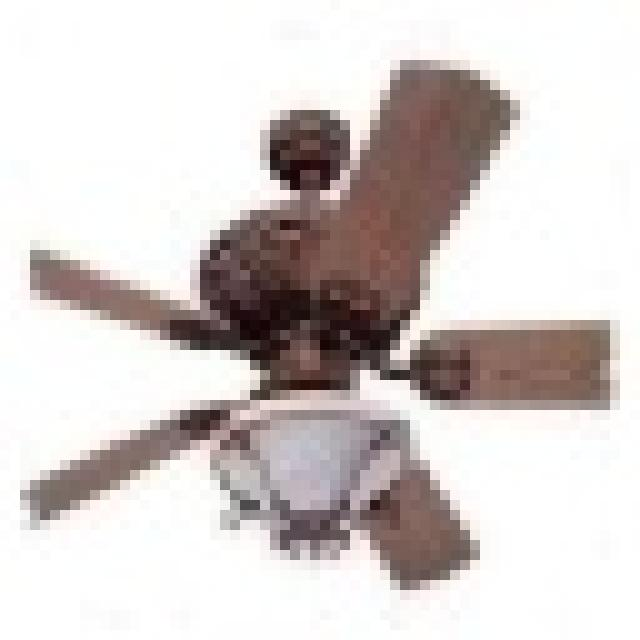Bulb: (31, 59, 640, 617)
